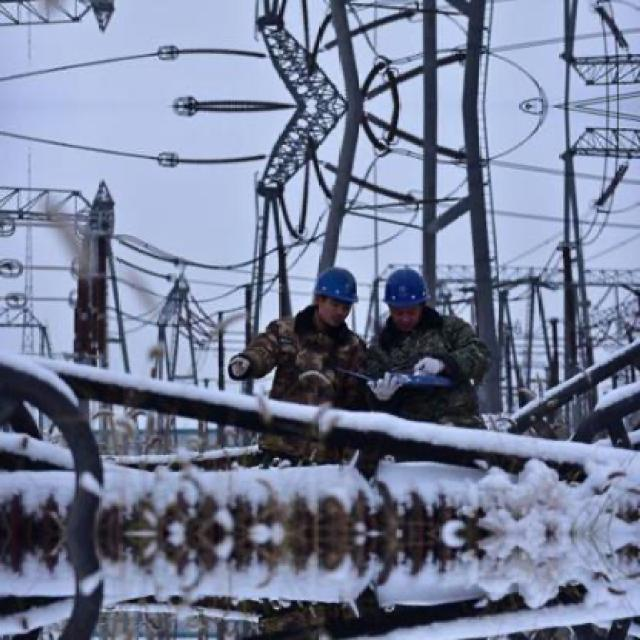con casco: (283, 250, 468, 342)
